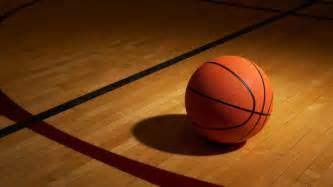basketball: (183, 55, 276, 144)
